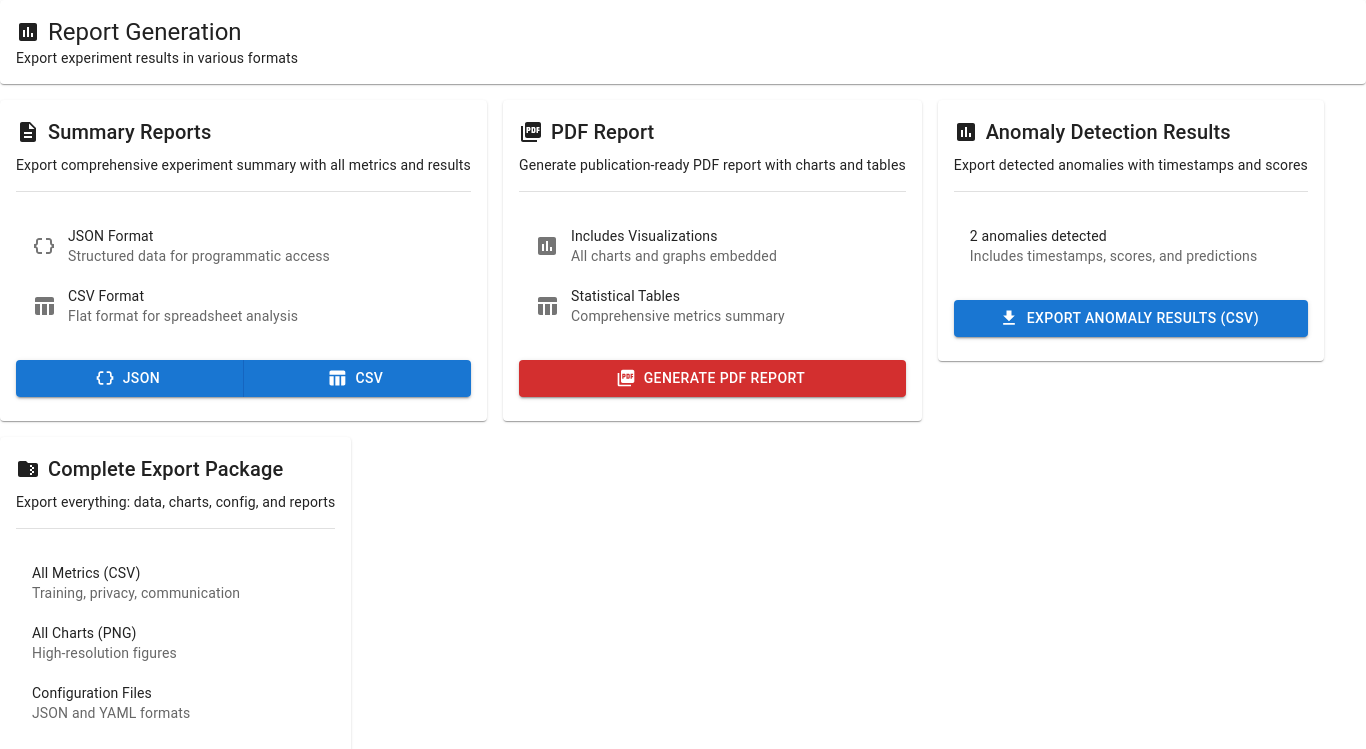
Scenario: ReportGeneration › Alert Handling › should allow manual dismissal of error
Click the button "JSON".
click(130, 378)  # box [16,360,244,397]
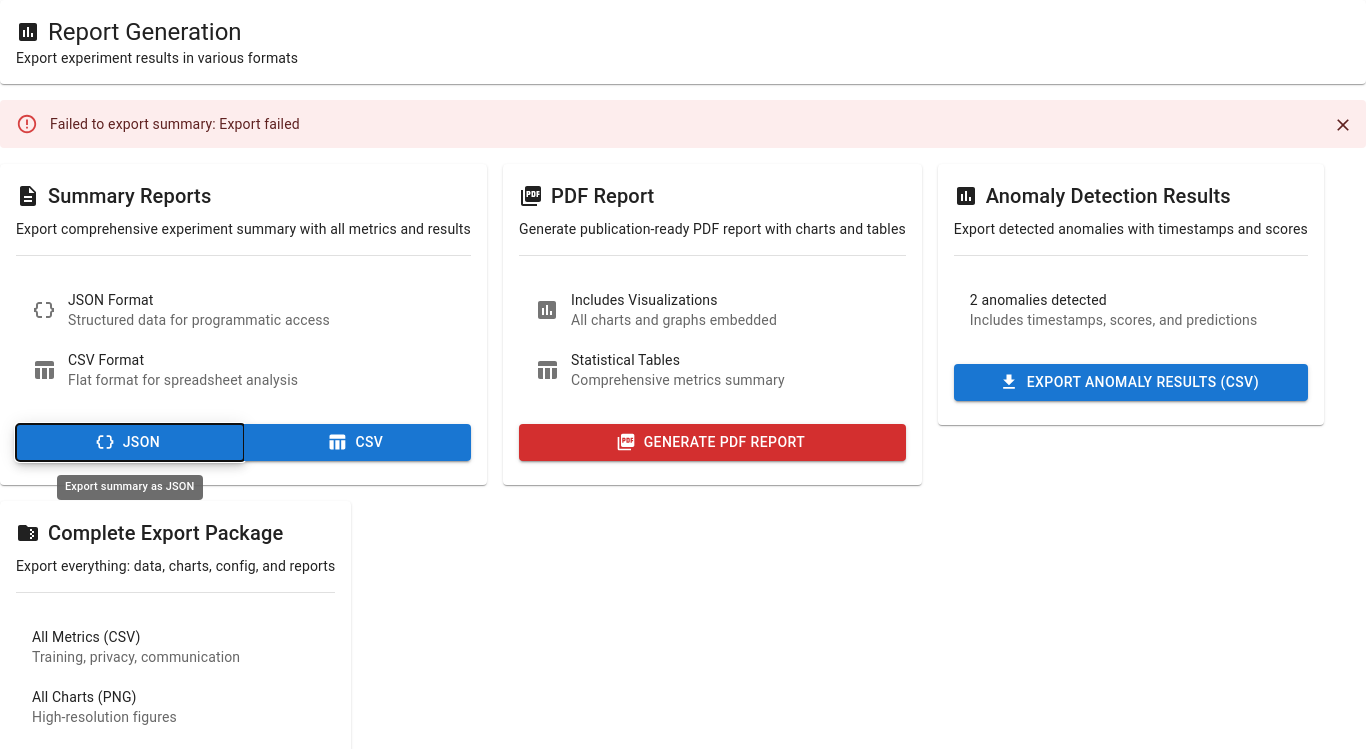
expect the text "Failed to export summary: Export failed" is shown: met, box [50,116,300,132]
Find and click close button on alert
Click the button named "close".
click(1343, 125)  # box [1328,110,1358,140]
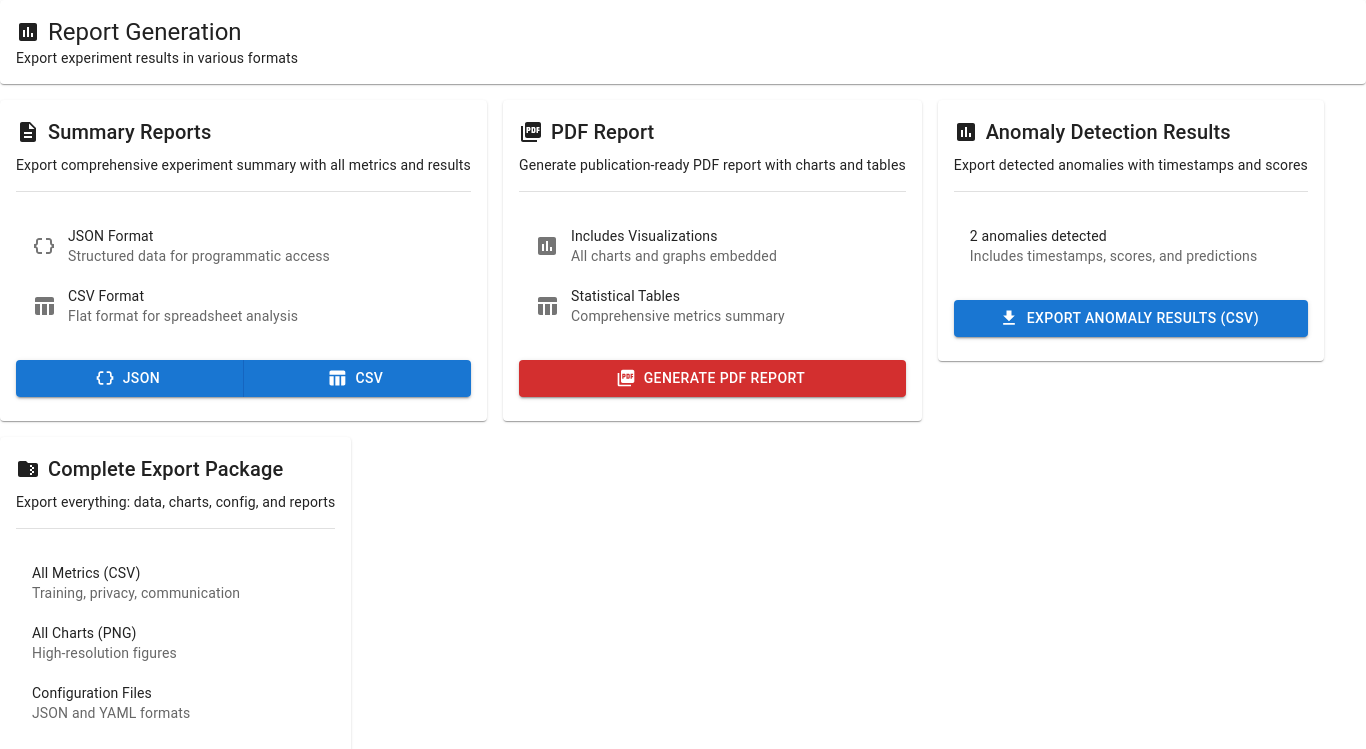
expect the text "Failed to export summary" is gone: met
